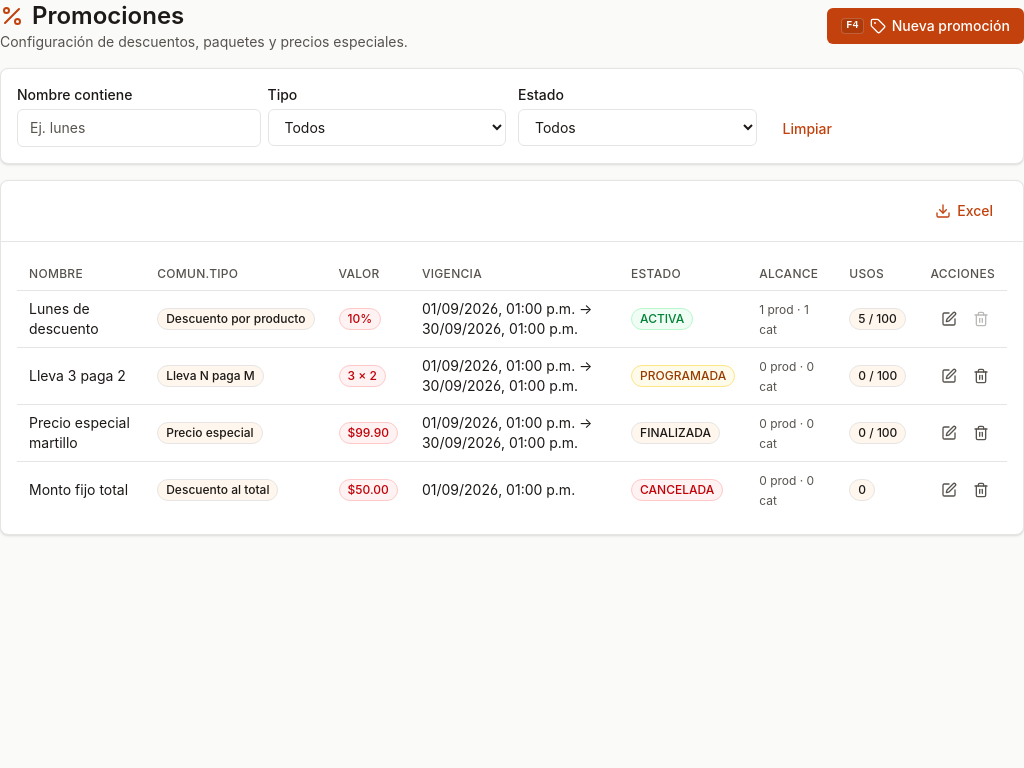
it: PromocionesPage › muestra 'Sin coincidencias' al buscar producto sin resultados
This screenshot has width=1024, height=768.
Expected: the text "Lunes de descuento" is shown, x1=17 y1=290 x2=145 y2=348
Click the button "F4 Nueva promoción". click: (926, 26)
box: x1=827 y1=8 x2=1023 y2=44
(page scrolled)
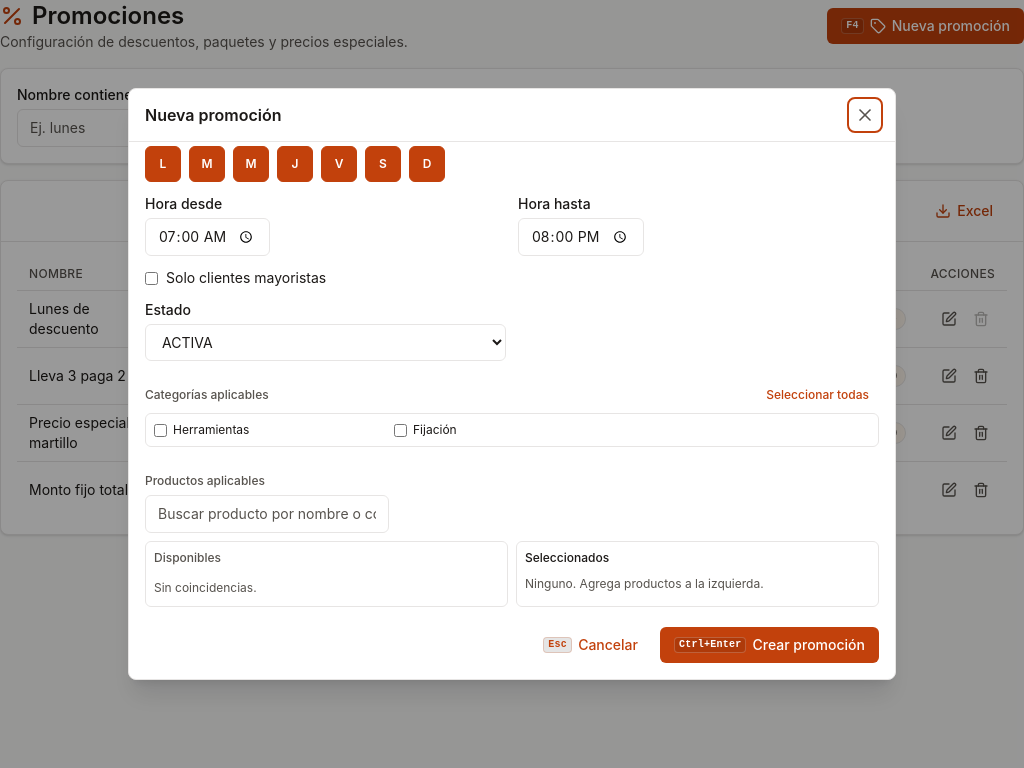
Now the text "Sin coincidencias." is shown, box x1=154 y1=580 x2=257 y2=595
